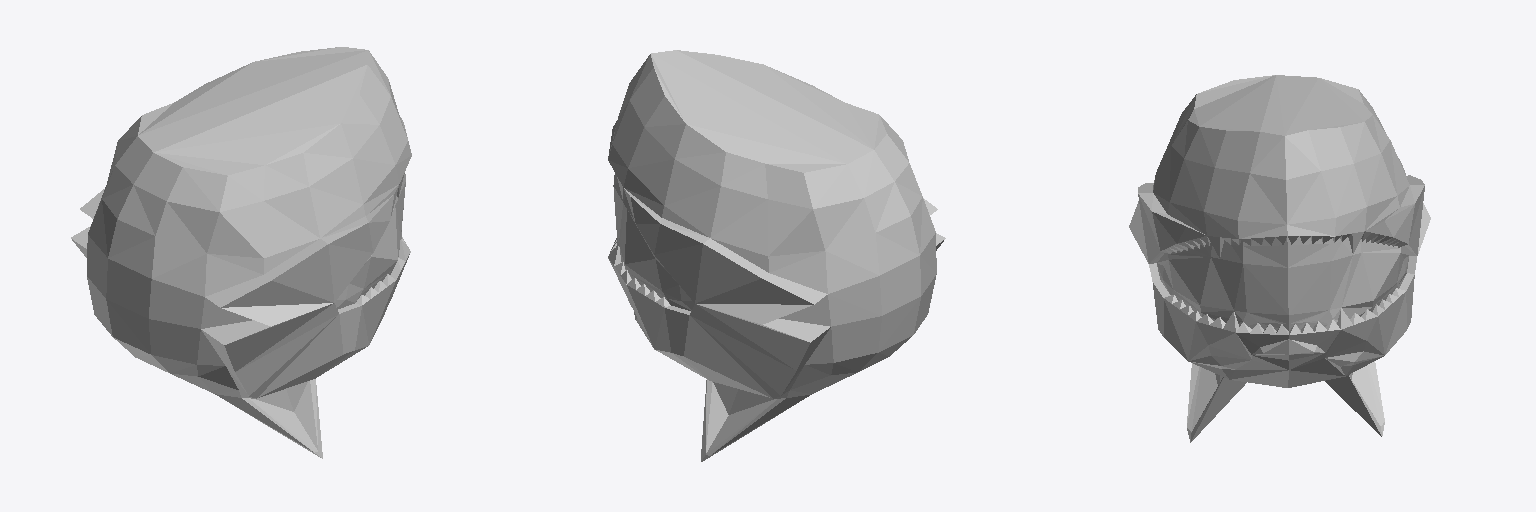
File: helmet_run0009.obj
3 renders of one model, left to right at view 1: azimuth 30°, elevation 25°; view 2: azimuth 150°, elevation 25°; view 3: azimuth 270°, elevation 25°, orthographic.
Visible parts, largest first — view 1: new_helmet; view 2: new_helmet; view 3: new_helmet.
Boxes of the visible parts, x1,y1,x2,y2 form: new_helmet: [71, 47, 411, 458]; new_helmet: [608, 50, 945, 461]; new_helmet: [1129, 75, 1430, 442].
Size of the model in its own units: 0.6506 by 0.7228 by 0.562.